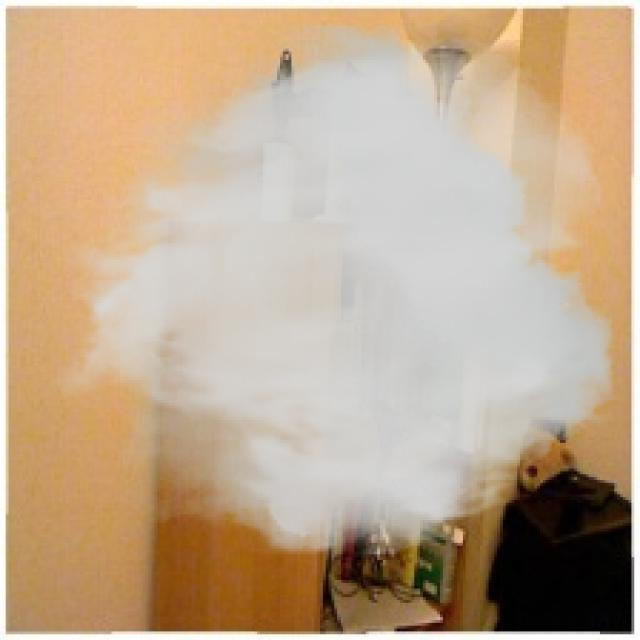smoke: (51, 26, 614, 563)
